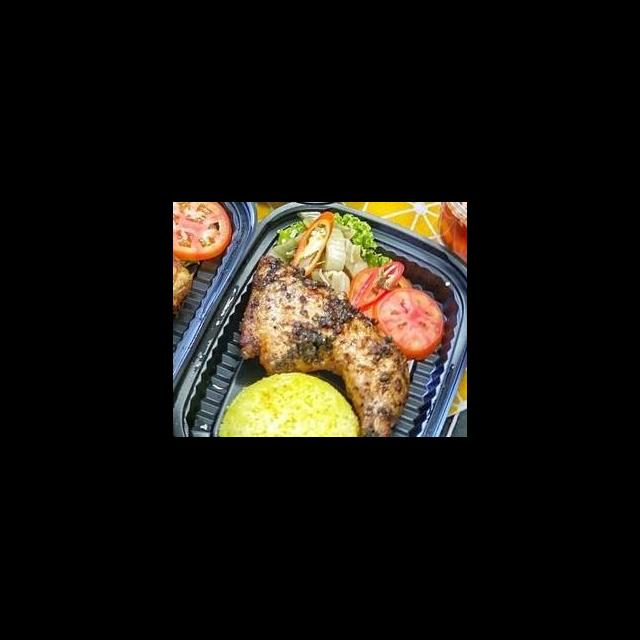com: (214, 370, 364, 438)
dua chua: (267, 216, 369, 302)
thit ga: (235, 252, 412, 438)
